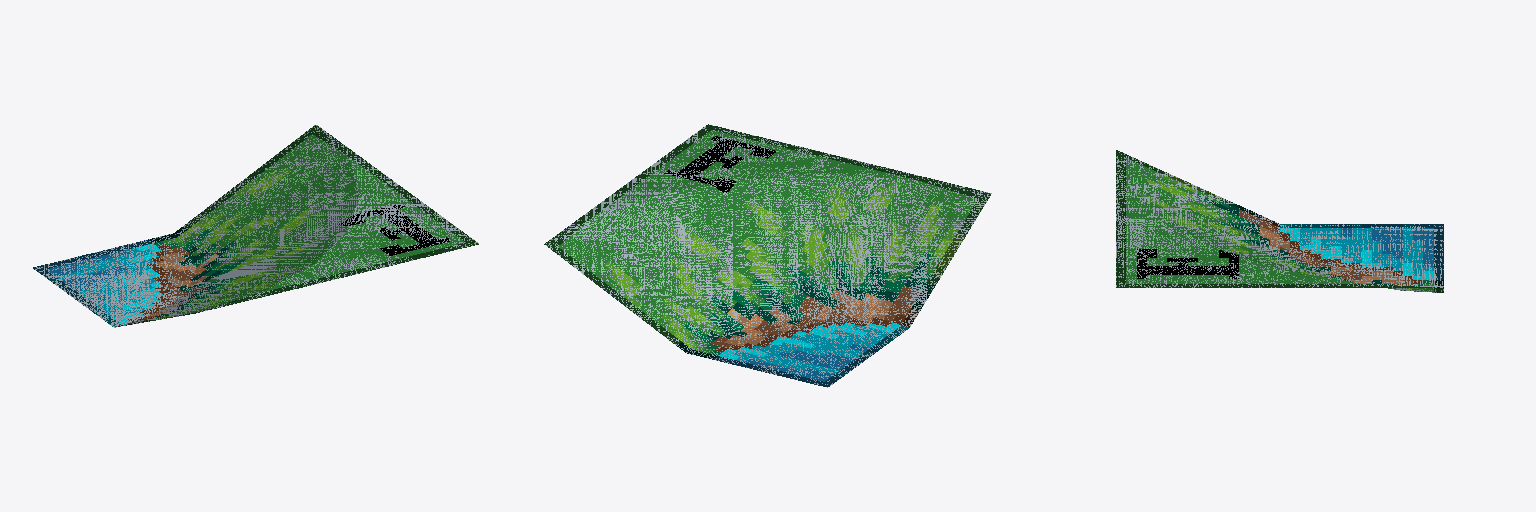
3 renders of one model, left to right at view 1: azimuth 30°, elevation 25°; view 2: azimuth 150°, elevation 25°; view 3: azimuth 270°, elevation 25°, orthographic.
Parts seen in each view (by area): view 1: Mesh1 Model; view 2: Mesh1 Model; view 3: Mesh1 Model.
Boxes of the visible parts, x1=… form: Mesh1 Model: x1=33, y1=125, x2=478, y2=327; Mesh1 Model: x1=544, y1=124, x2=991, y2=387; Mesh1 Model: x1=1116, y1=150, x2=1443, y2=292.
Bounding box in the file's own units: 32 × 8 × 32.
2 materials, 1 textured.